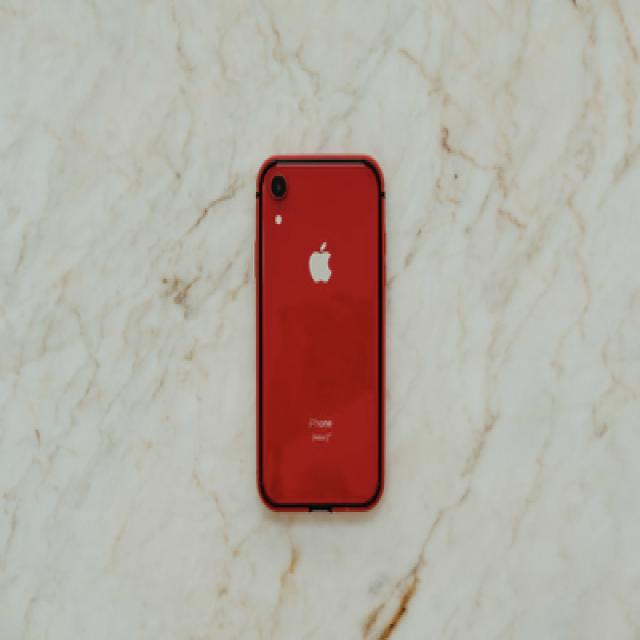cellphone: (252, 153, 386, 512)
